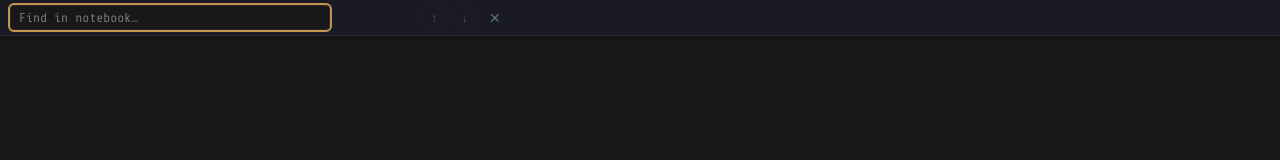
Test: FindBar › shows match count when query matches
Type "x" into the field with placeholder "Find in notebook…" at (170, 18), box left=10, top=5, right=330, bottom=30
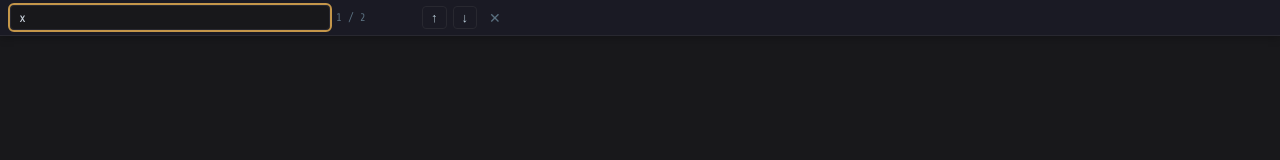
Result: the text "1 / 2" is shown at left=336, top=11, right=366, bottom=24
